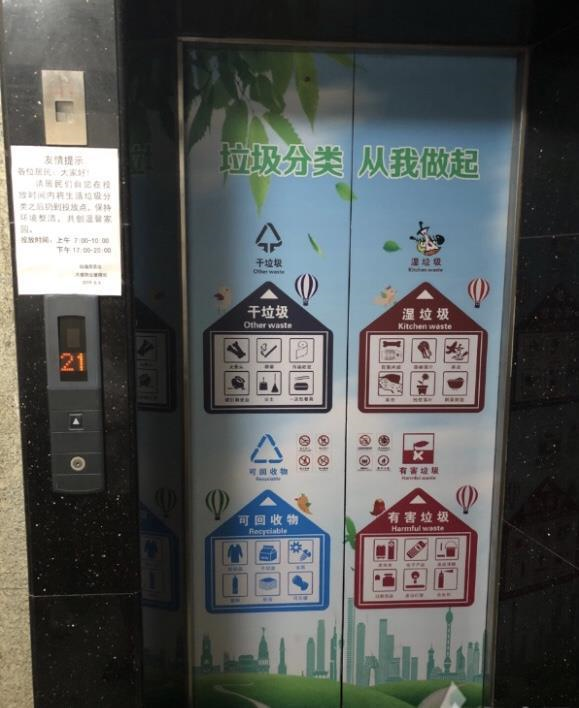bill: (181, 40, 523, 708), (6, 141, 123, 295)
